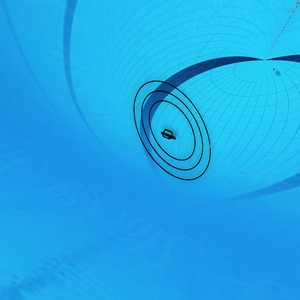circle: (124, 75, 216, 186)
submarine: (160, 131, 176, 142)
